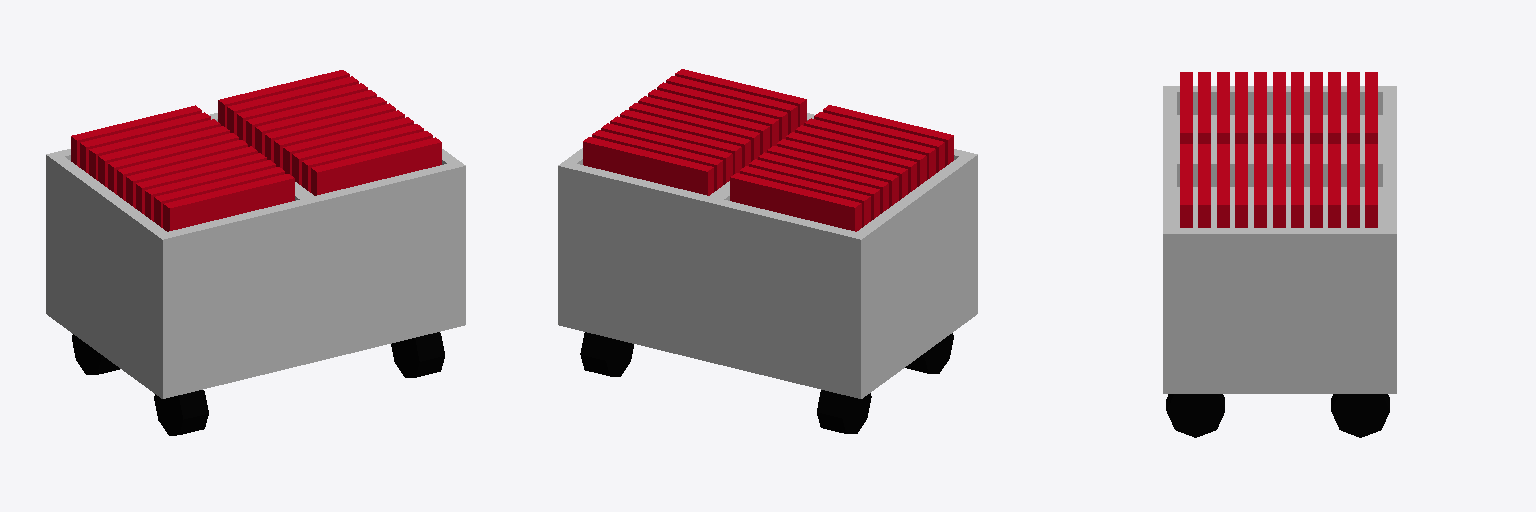
Rendered from ShelfWheels.obj.
The picture shows the model from 3 angles: view 1: azimuth 30°, elevation 25°; view 2: azimuth 150°, elevation 25°; view 3: azimuth 270°, elevation 25°; orthographic projection.
Parts seen in each view (by area): view 1: Plane.138_Plane.064; view 2: Plane.138_Plane.064; view 3: Plane.138_Plane.064.
Boxes of the visible parts, x1,y1,x2,y2 form: Plane.138_Plane.064: [46, 70, 465, 435]; Plane.138_Plane.064: [558, 69, 977, 433]; Plane.138_Plane.064: [1163, 72, 1396, 437].
Bounding box in the file's own units: 1.48 × 1.1 × 0.9862.